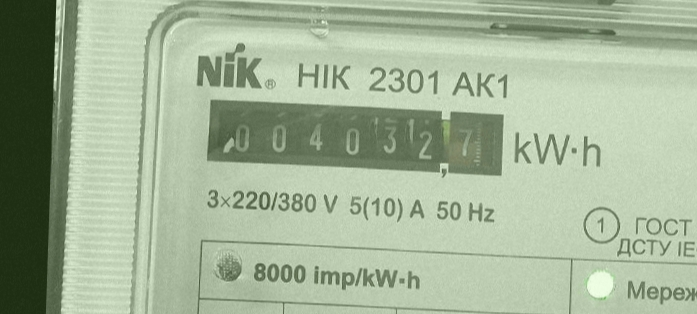0: (270, 120, 291, 154), (234, 119, 254, 153), (344, 123, 364, 157)
2: (418, 126, 437, 161)
3: (382, 122, 401, 155)
4: (307, 119, 328, 155)
7: (459, 125, 477, 158)
screen: (198, 90, 515, 188)
